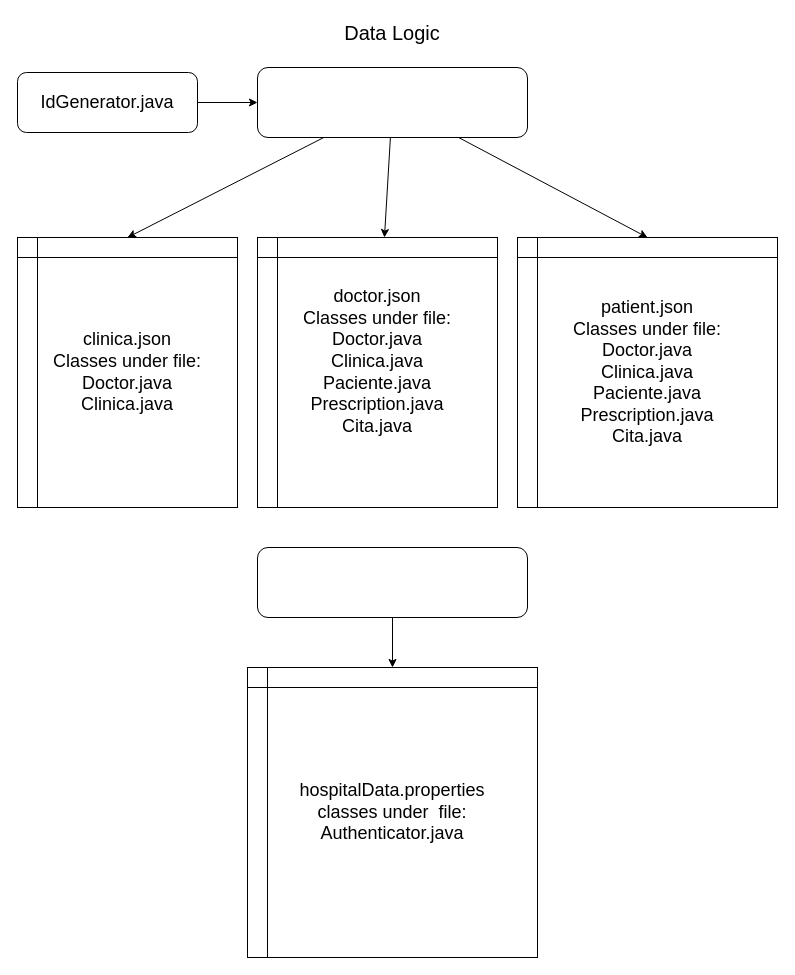
This 795x975 diagram has some shape labels left out. The shapes that lost their labels are listed below. From the top down, each one's centre as x and y in pixels, then its label:
At (392,102): "StorageHandler.java".
At (392,582): "PropertiesFile.java".
